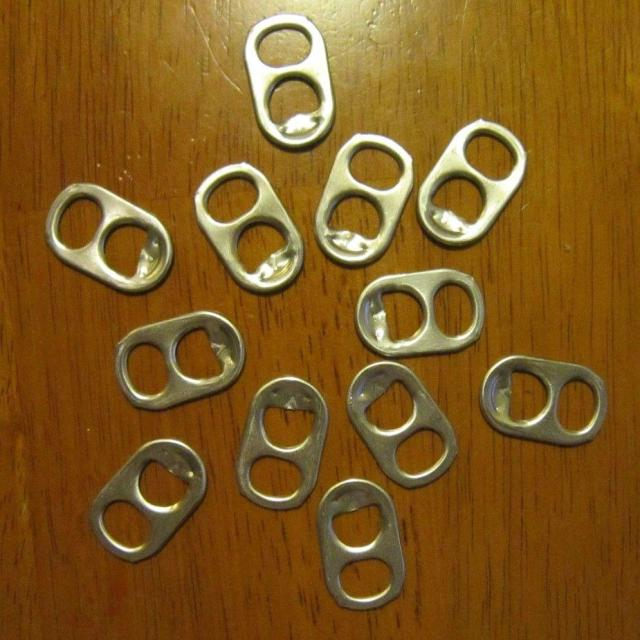pop tab: (86, 436, 209, 563), (193, 161, 307, 295), (415, 118, 529, 252), (344, 361, 460, 492), (46, 182, 174, 297), (310, 132, 416, 270), (112, 310, 246, 414), (312, 477, 410, 614), (234, 374, 330, 512), (245, 12, 336, 152), (354, 266, 489, 360), (477, 355, 609, 447)
